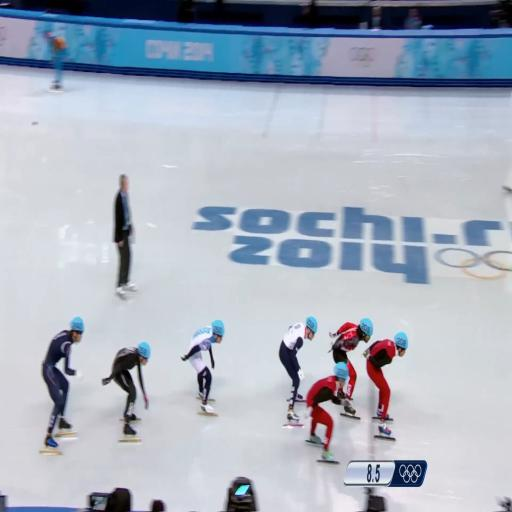Skater: (42, 317, 83, 453), (363, 332, 408, 440), (102, 342, 150, 436), (307, 363, 348, 463), (279, 317, 317, 424), (182, 320, 224, 415), (330, 318, 373, 400)
